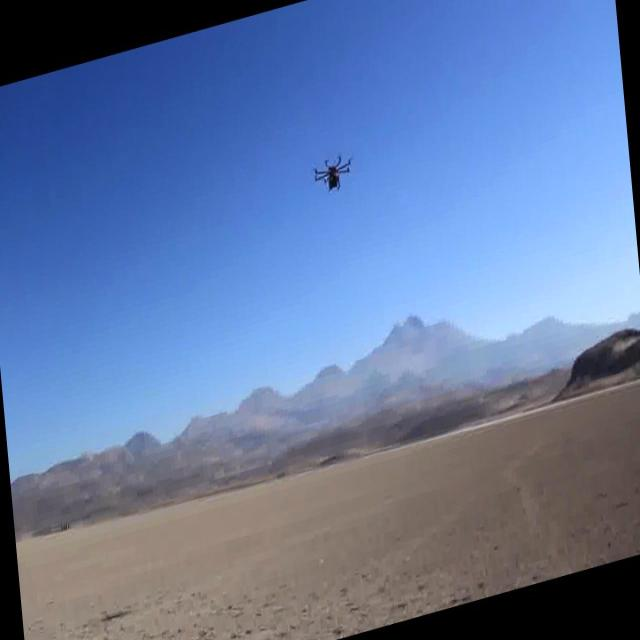drone: (309, 140, 356, 199)
